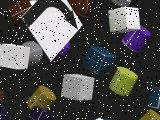Right: (21, 0, 83, 62)
